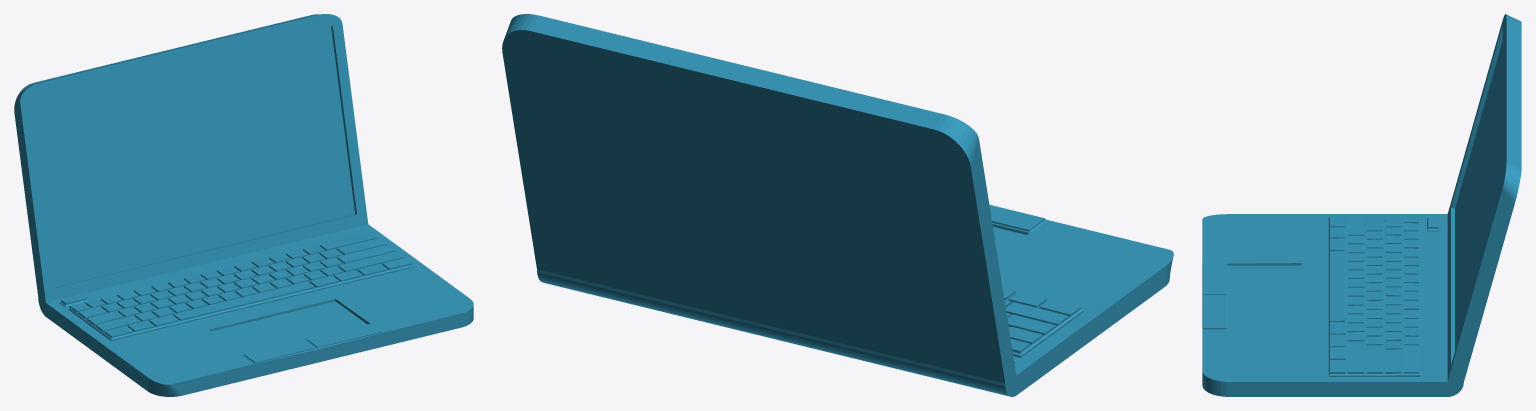
Rendered from laptopInteractable.fbx.
3 views of the same model, side by side, from view 1: azimuth 30°, elevation 25°; view 2: azimuth 150°, elevation 25°; view 3: azimuth 270°, elevation 25° (orthographic). The views are drawn at different scales.
Parts seen in each view (by area): view 1: Cube; view 2: Cube; view 3: Cube.
Boxes of the visible parts, x1=… form: Cube: x1=14, y1=14, x2=473, y2=396; Cube: x1=502, y1=14, x2=1173, y2=396; Cube: x1=1202, y1=14, x2=1521, y2=396.
Size of the model in its own units: 304 by 188 by 244.
